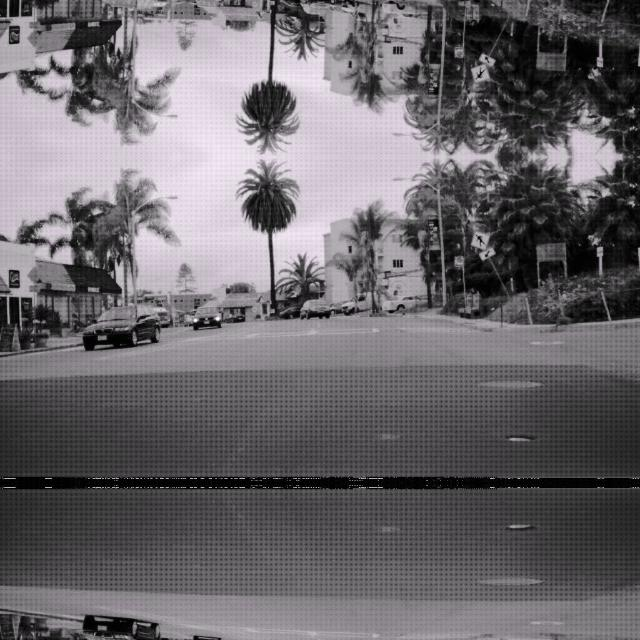pedestrianCrossing: (469, 230, 488, 248), (469, 64, 488, 82)
